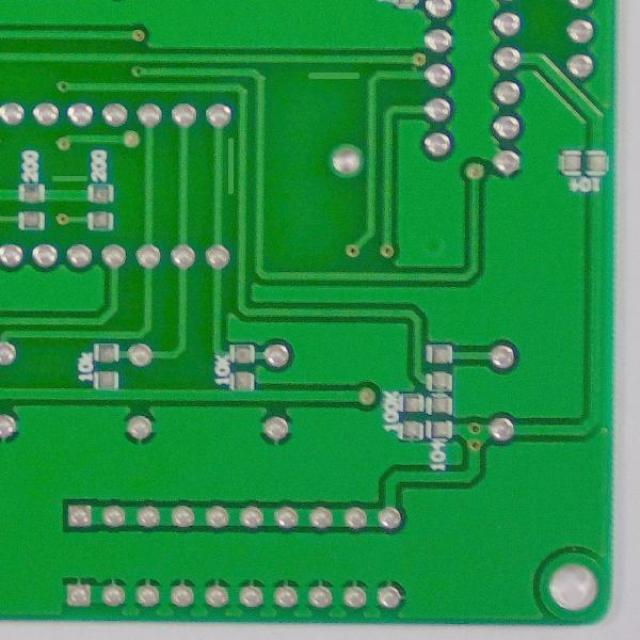Spurious_Cooper: (301, 68, 364, 86), (223, 132, 237, 196), (48, 172, 90, 186)
